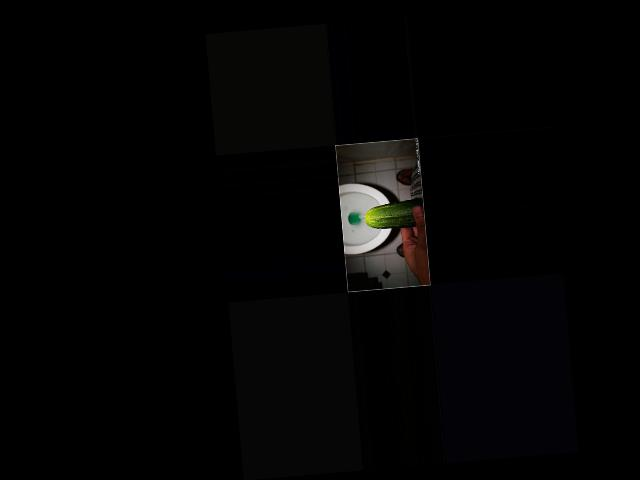cucumber: (364, 197, 426, 230)
